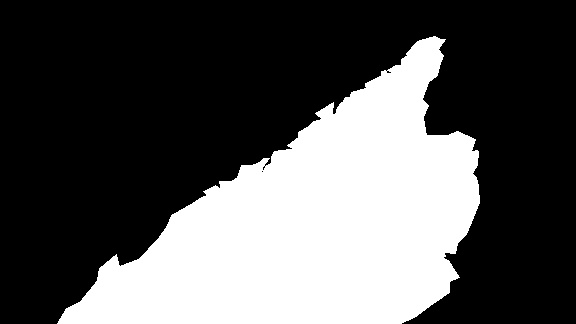Fire: (249, 36, 442, 214), (340, 132, 482, 277)
